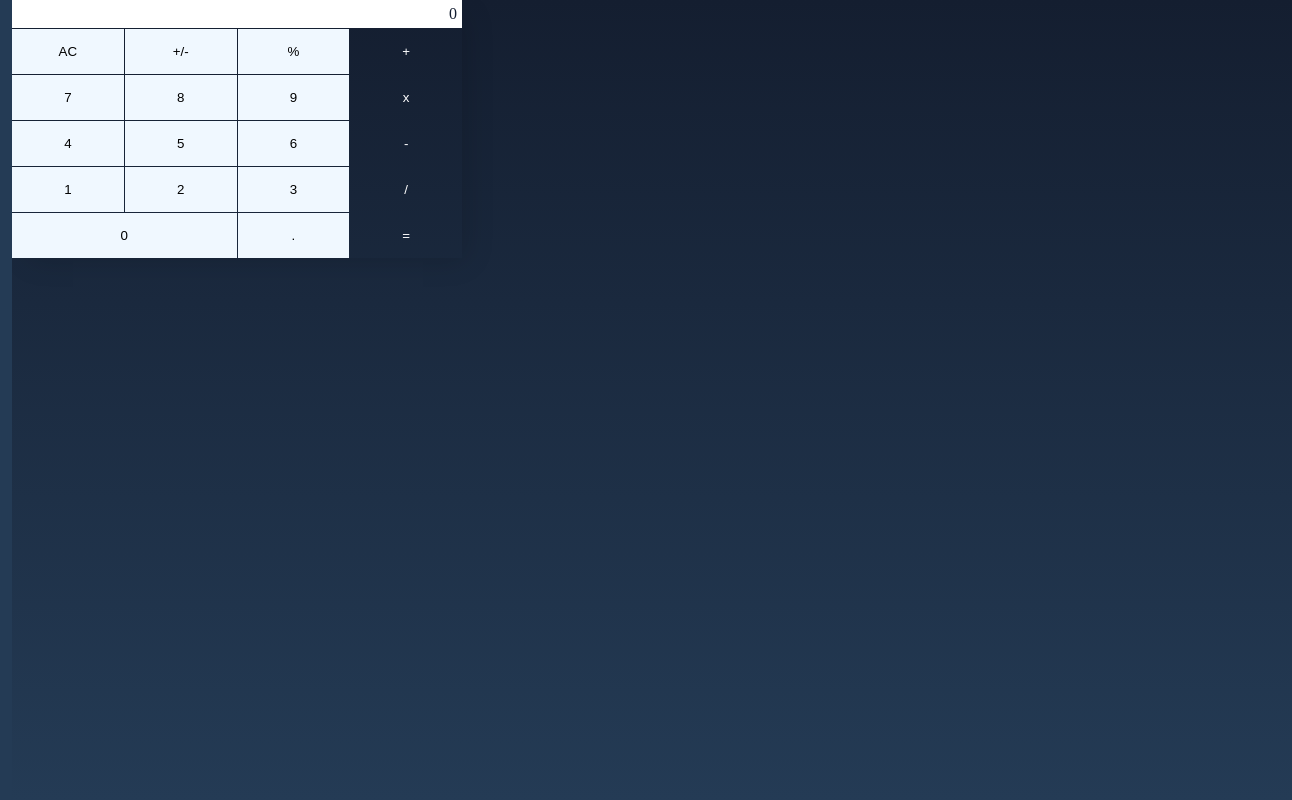
Test: Calculator › should set screen innerTextContent to button data value when buttons are clicked
What coordinates should you click on to do the following:
click the button "1"
I would click on:
 (68, 190)
Its box is [12,167,124,212].
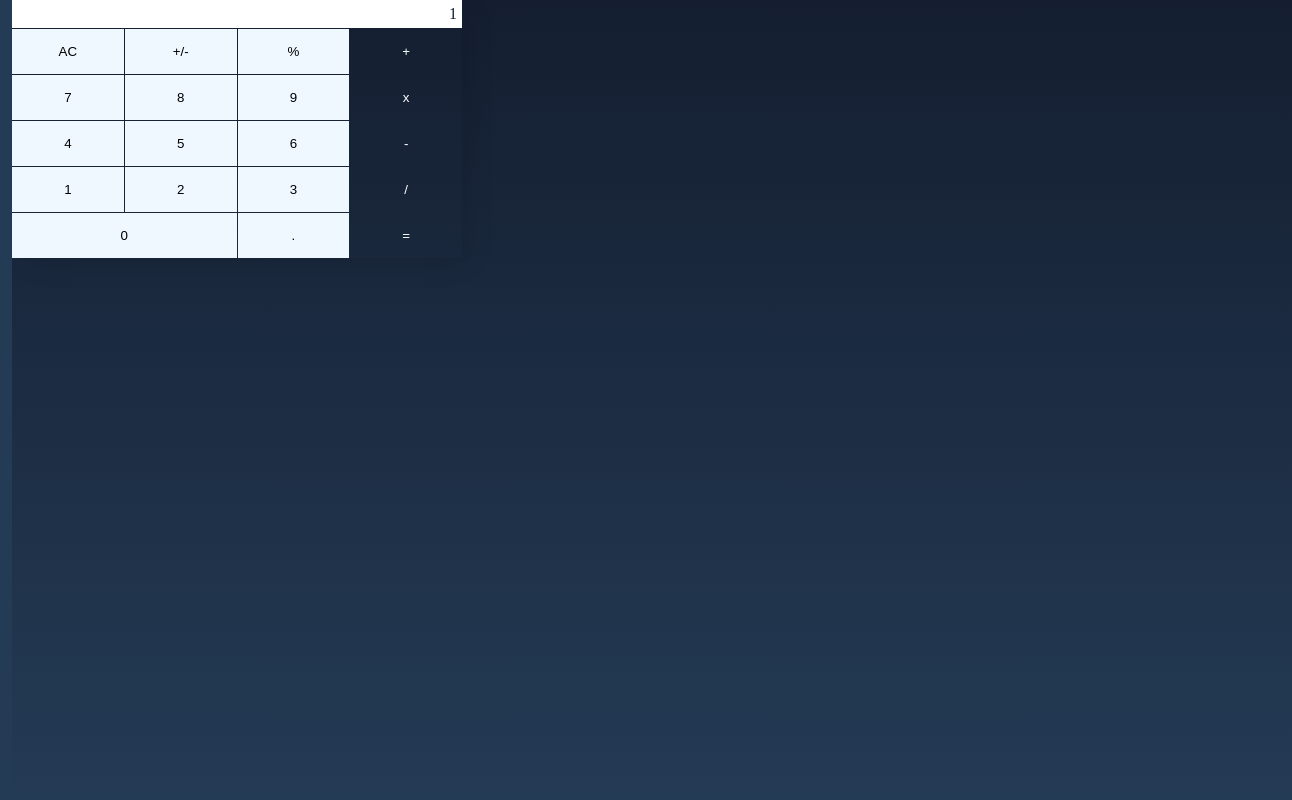
Expected: the text with test id "screenTestId" reads "1", [449,5,457,22]
